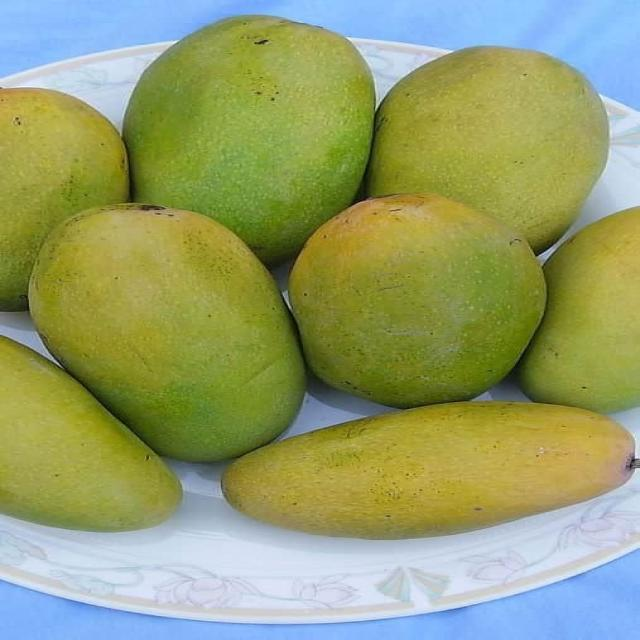mango: (30, 205, 304, 462), (124, 15, 374, 263), (223, 402, 637, 538), (290, 195, 545, 407), (367, 47, 608, 253), (0, 338, 181, 531), (0, 89, 128, 310), (519, 207, 639, 412)
